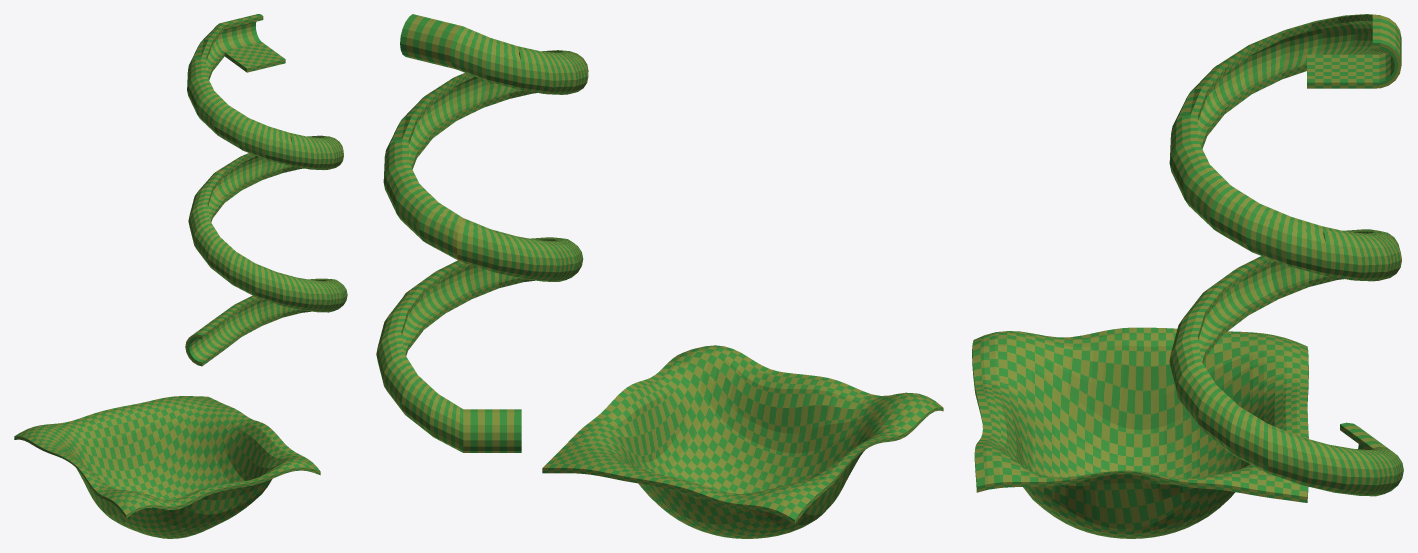
Rendered from niveau2.glb.
The picture shows the model from 3 angles, left to right: view 1: azimuth 30°, elevation 25°; view 2: azimuth 150°, elevation 25°; view 3: azimuth 270°, elevation 25°; orthographic projection. The views are drawn at different scales.
Visible parts, largest first — view 1: Plat.114; view 2: Plat.114; view 3: Plat.114.
Boxes of the visible parts, left/top/right/bottom form: Plat.114: left=14, top=14, right=347, bottom=538; Plat.114: left=376, top=14, right=943, bottom=538; Plat.114: left=972, top=14, right=1403, bottom=538.
Size of the model in its own units: 82.31 by 102 by 65.62.
Materials: 2 (2 with a texture image).
